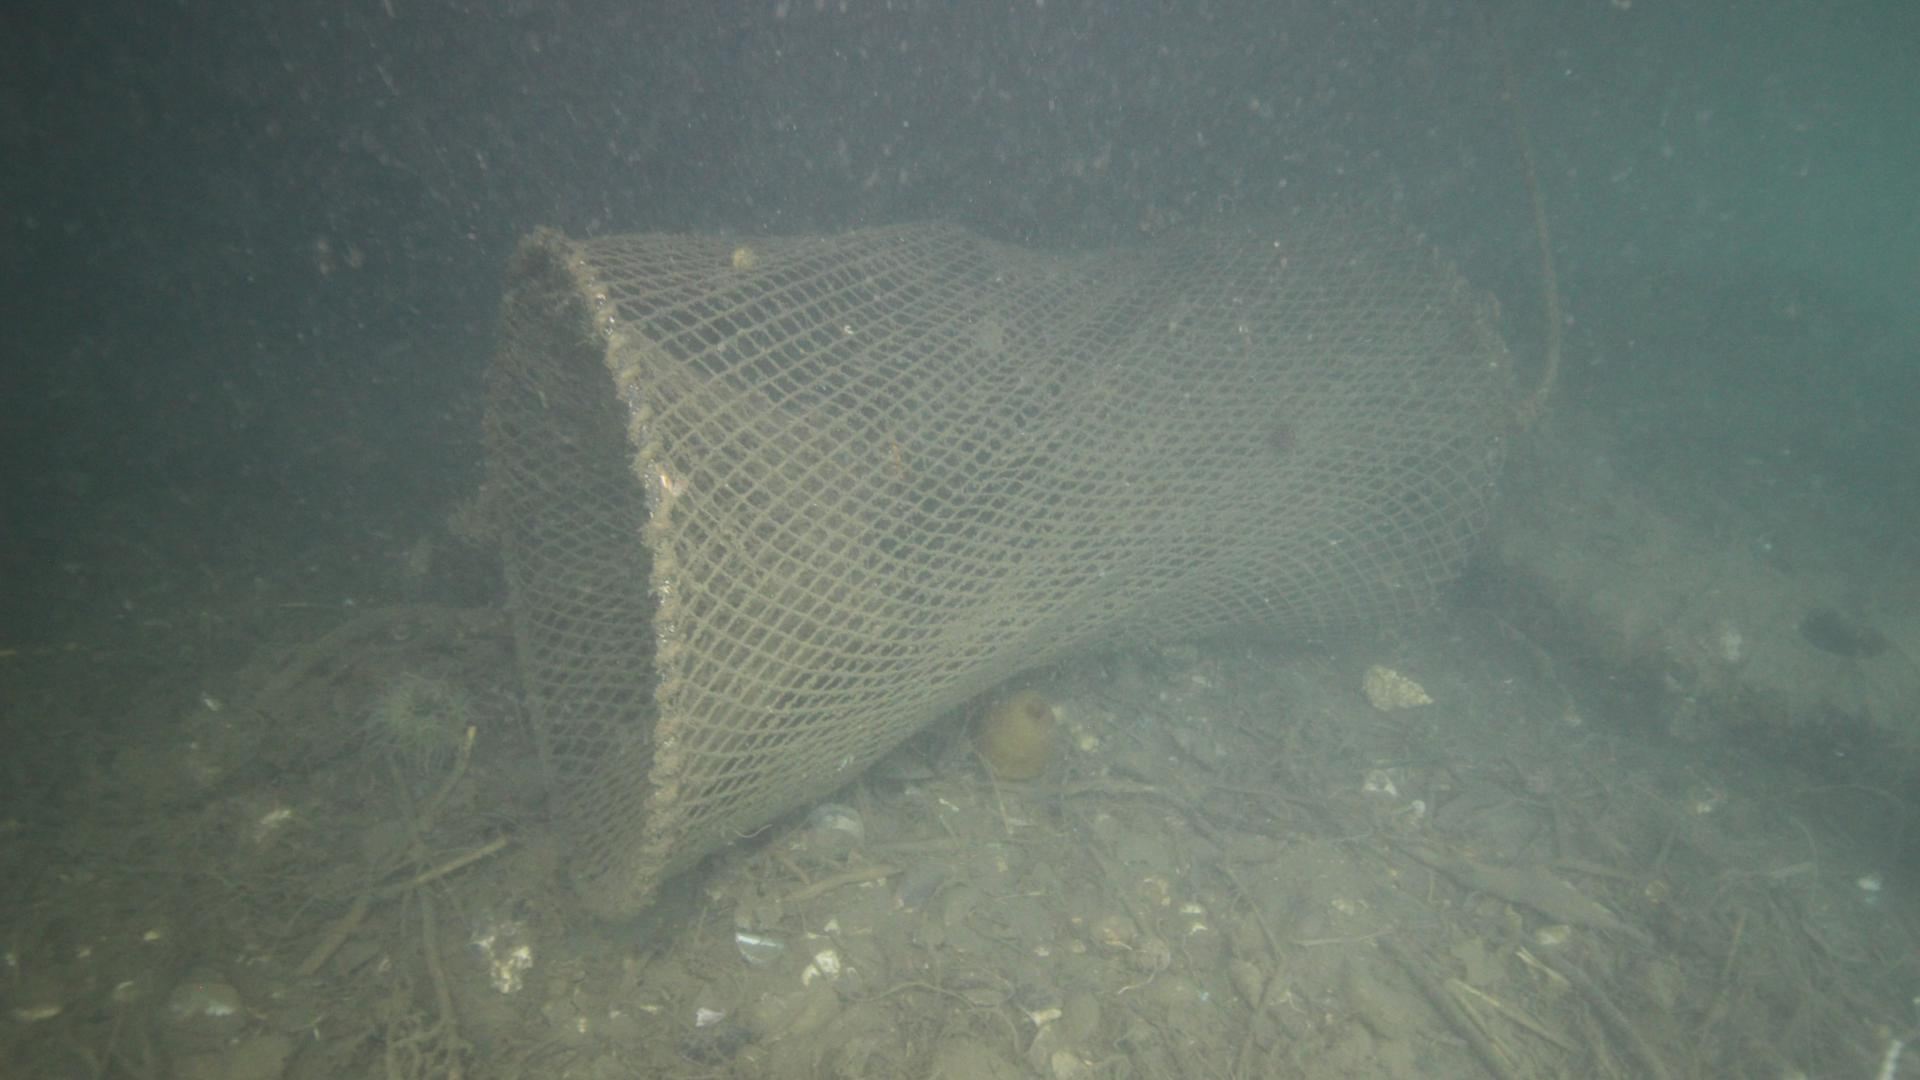spring fish trap: (481, 191, 1520, 922)
